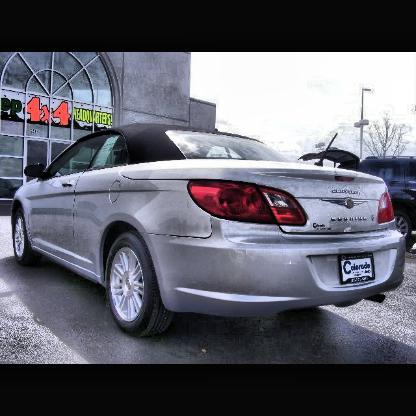Chrysler Sebring Convertible 2010: (12, 124, 407, 337)
